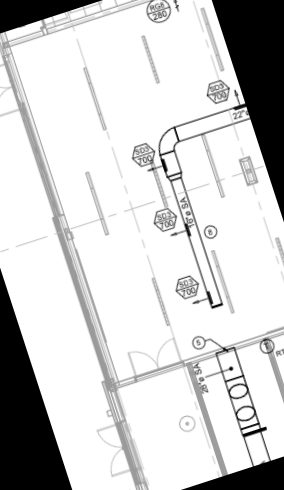double door: (93, 419, 139, 480), (123, 335, 185, 379), (0, 58, 26, 120)
